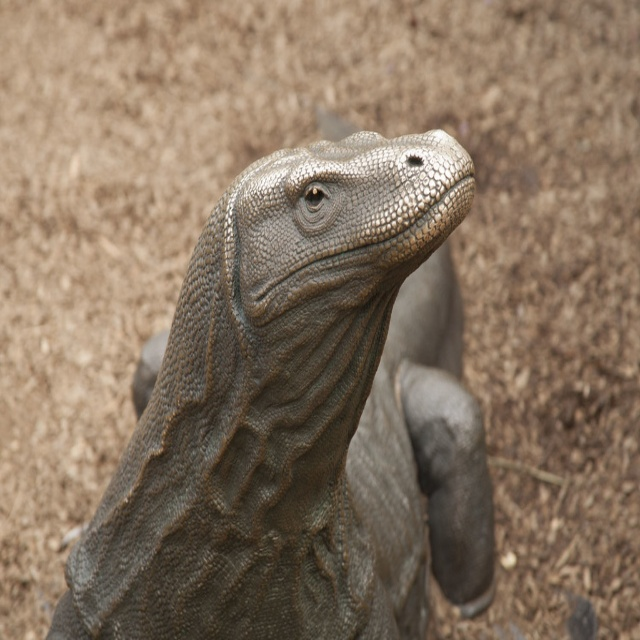Lizard: (72, 86, 514, 640)
